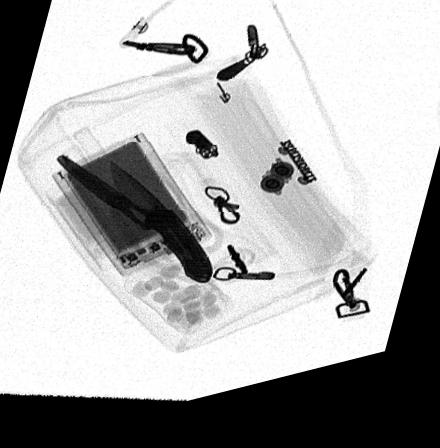Knife: (110, 163, 213, 296)
Powerbank: (51, 135, 212, 283)
Scissors: (55, 156, 224, 280)
